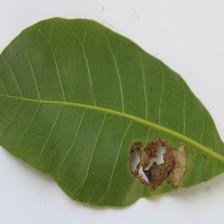leaf miner: (0, 16, 224, 208), (128, 135, 187, 192)
